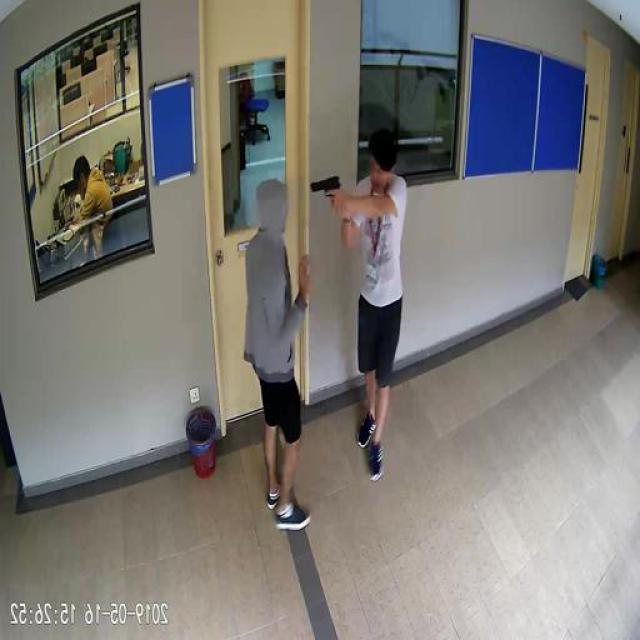Gun: (312, 174, 342, 212)
